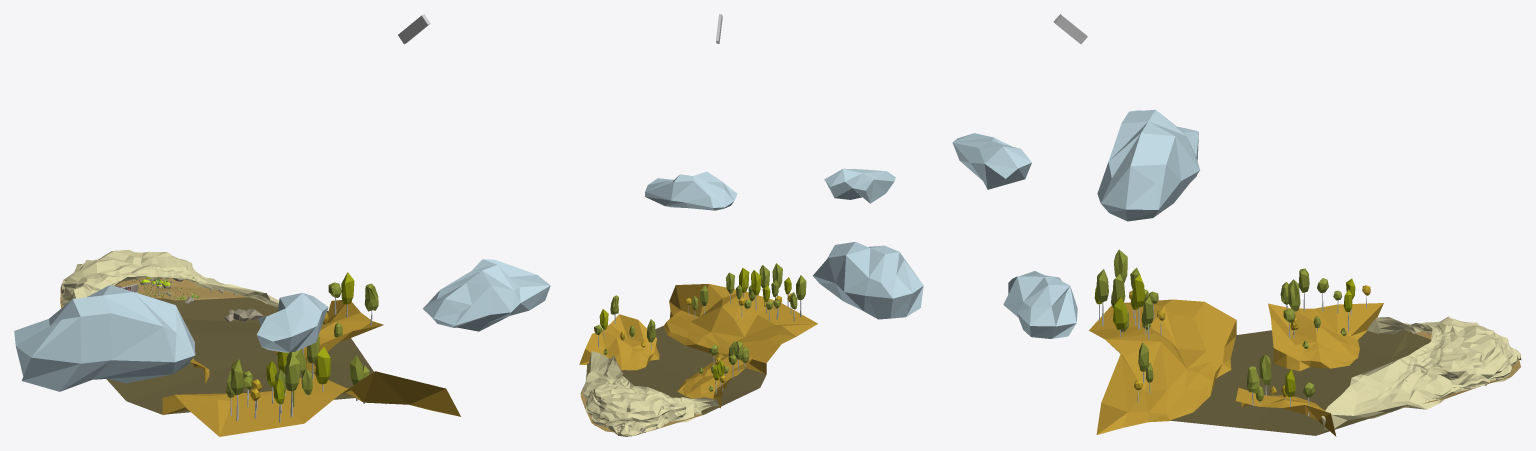
The model's file is cave_binary.FBX.
The picture shows the model from 3 angles, left to right: view 1: azimuth 30°, elevation 25°; view 2: azimuth 150°, elevation 25°; view 3: azimuth 270°, elevation 25°; orthographic projection. The views are drawn at different scales.
Visible parts, largest first — view 1: hill, flor, cave, grass; view 2: hill, cave, flor; view 3: hill, cave, flor.
Part boxes in pixels (x1,y1,x2,y2): hill: (14, 259, 550, 436); flor: (60, 277, 373, 414); cave: (61, 249, 329, 313); grass: (61, 252, 263, 321); hill: (579, 168, 923, 408); cave: (580, 351, 718, 436); flor: (580, 326, 766, 436); hill: (952, 109, 1383, 436); cave: (1321, 316, 1520, 430); flor: (1170, 330, 1521, 435).
Size of the model in its own units: 6356 by 5652 by 7386.
